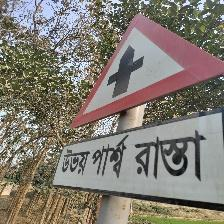Crossroad: (45, 9, 224, 212)
